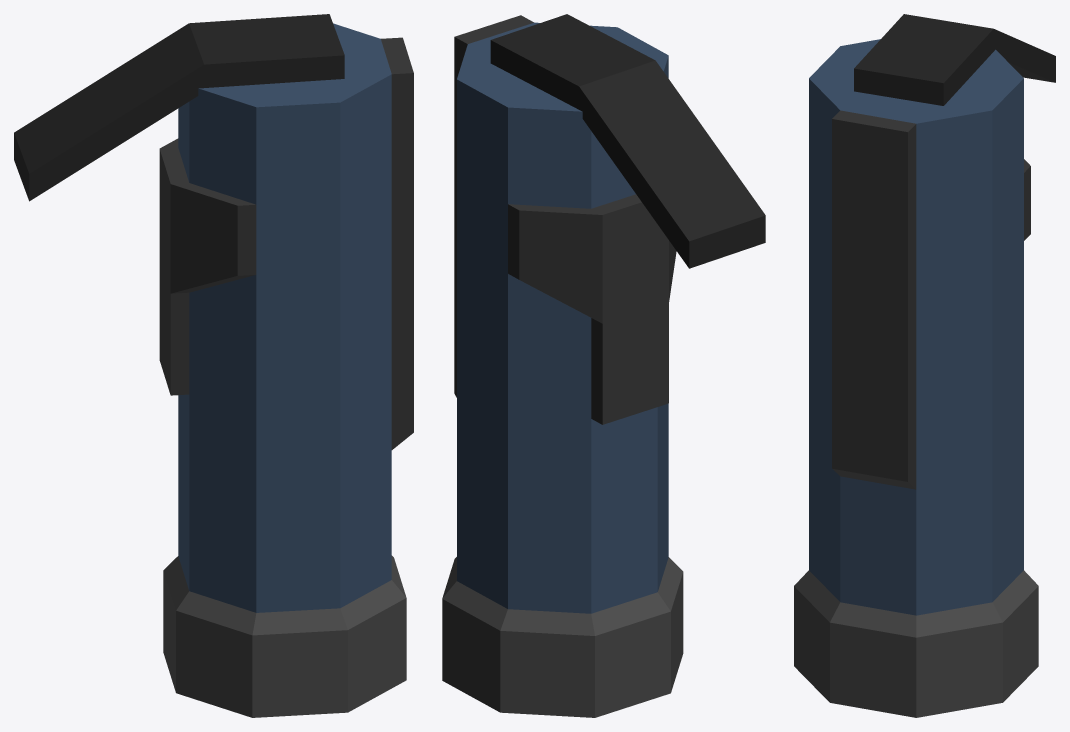
The model's file is Grenade_B_V1.FBX.
3 renders of one model, left to right at view 1: azimuth 30°, elevation 25°; view 2: azimuth 150°, elevation 25°; view 3: azimuth 270°, elevation 25°, orthographic. The views are drawn at different scales.
Parts seen in each view (by area): view 1: Grenade_B_V1; view 2: Grenade_B_V1; view 3: Grenade_B_V1.
Boxes of the visible parts, x1,y1,x2,y2 form: Grenade_B_V1: (14, 14, 413, 717); Grenade_B_V1: (442, 14, 765, 717); Grenade_B_V1: (794, 14, 1055, 717).
Bounding box in the file's own units: 26.52 × 46.29 × 17.99.
